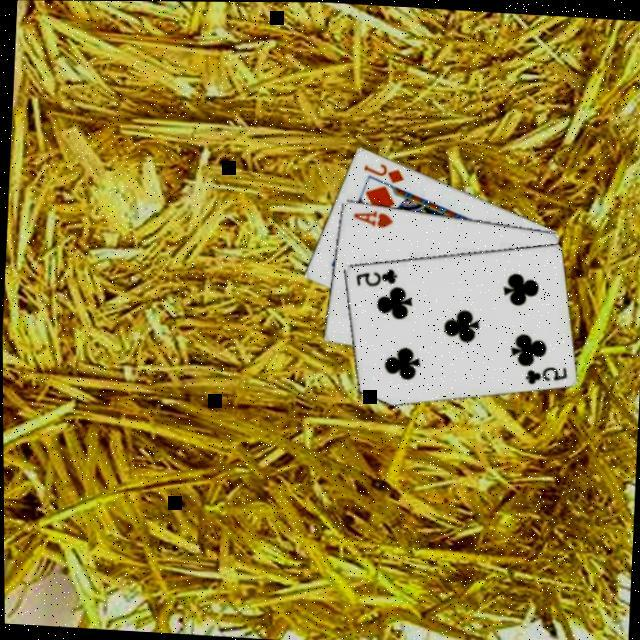5C: (520, 362, 570, 390), (352, 265, 400, 291)
AH: (350, 208, 397, 232)
JD: (360, 160, 408, 187)
